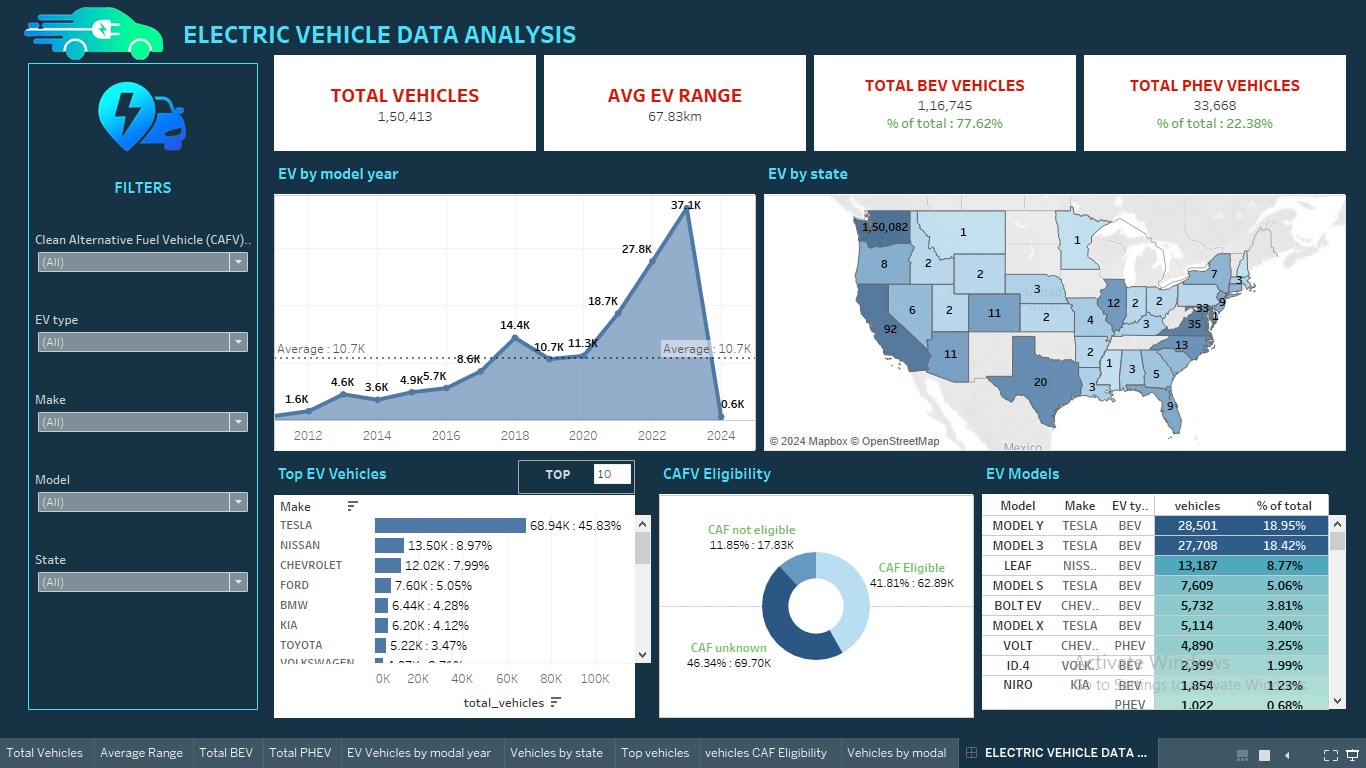

The page's visual inventory and layout, read from the dashboard file:
{"tool":"tableau","page":{"name":" ELECTRIC VEHICLE DATA ANALYSIS ","canvas":[1000,1000],"units":"permille","ordinal":0},"visuals":[{"type":"title","box":[13.8,26.1,972.3,47.4]},{"type":"image","param":"C:/Users/adees/Downloads/ev-thunder-removebg-preview.png","box":[8.7,39.1,187.9,234.9]},{"type":"worksheet","title":"Total Vehicles","mark":"Automatic","box":[199.1,73.4,197.4,138.7]},{"type":"worksheet","title":"Average Range","mark":"Automatic","box":[396.5,73.4,196.5,138.7]},{"type":"worksheet","title":"Total BEV","mark":"Automatic","box":[593.1,73.4,196.5,138.7]},{"type":"worksheet","title":"Total PHEV","mark":"Automatic","box":[789.6,73.4,196.5,138.7]},{"type":"blank","box":[26.8,97.9,159.3,107.7]},{"type":"text","box":[26.8,205.6,159.3,107.7]},{"type":"worksheet","title":"EV Vehicles by modal year","mark":"Area","rows":["Calculation_645703618846998528","Calculation_645703618846998528"],"cols":["Model Year"],"box":[198.7,212.5,350.4,402.6]},{"type":"worksheet","title":"Vehicles by state","mark":"Multipolygon","box":[549.1,212.5,437,402.6]},{"type":"filter","title":"EV Vehicles by modal year","param":"[federated.1fsmxk10ci0dnc1alt7qk1tk1pxi].[none:Clean Alternative Fuel Vehicle (C","box":[26.8,313.2,159.3,106]},{"type":"filter","title":"EV Vehicles by modal year","param":"[federated.1fsmxk10ci0dnc1alt7qk1tk1pxi].[none:Electric Vehicle Type:nk]","box":[26.8,419.2,159.3,106]},{"type":"filter","title":"EV Vehicles by modal year","param":"[federated.1fsmxk10ci0dnc1alt7qk1tk1pxi].[none:Make:nk]","box":[26.8,525.3,159.3,106]},{"type":"worksheet","title":"Top vehicles","mark":"Automatic","rows":["Make"],"cols":["Calculation_645703618846998528"],"box":[198.7,615.1,333.3,358.8]},{"type":"worksheet","title":"vehicles CAF Eligibility","mark":"Pie","rows":["Calculation_645703618903867403","Calculation_620370871281135617"],"box":[532.1,615.1,279.7,358.8]},{"type":"worksheet","title":"Vehicles by modal","mark":"Square","rows":["Model","Make","Electric Vehicle Type"],"box":[811.7,615.1,174.4,358.8]},{"type":"parameter","param":"[Parameters].[Parameter 1]","box":[379.2,623.2,85.7,45.7]},{"type":"filter","title":"EV Vehicles by modal year","param":"[federated.1fsmxk10ci0dnc1alt7qk1tk1pxi].[none:Model:nk]","box":[26.8,631.3,159.3,106]},{"type":"filter","title":"EV Vehicles by modal year","param":"[federated.1fsmxk10ci0dnc1alt7qk1tk1pxi].[none:State:nk]","box":[26.8,737.4,159.3,106]},{"type":"blank","box":[26.8,843.4,159.3,106]}]}

Visuals, with their boxes on the dashboard's canvas, which has no fixed pixel size, in thousandths of its width and height (x1, y1, x2, y2). These are canvas units, not pixel positions in the 1366x768 screenshot, which may show the page scaled, cropped or inside an application window:
title: 14:26:986:74
image: 9:39:197:274
"Total Vehicles" worksheet: 199:73:396:212
"Average Range" worksheet: 396:73:593:212
"Total BEV" worksheet: 593:73:790:212
"Total PHEV" worksheet: 790:73:986:212
blank: 27:98:186:206
text: 27:206:186:313
"EV Vehicles by modal year" worksheet (Area marks): 199:212:549:615
"Vehicles by state" worksheet (Multipolygon marks): 549:212:986:615
"EV Vehicles by modal year" filter: 27:313:186:419
"EV Vehicles by modal year" filter: 27:419:186:525
"EV Vehicles by modal year" filter: 27:525:186:631
"Top vehicles" worksheet: 199:615:532:974
"vehicles CAF Eligibility" worksheet (Pie marks): 532:615:812:974
"Vehicles by modal" worksheet (Square marks): 812:615:986:974
parameter: 379:623:465:669
"EV Vehicles by modal year" filter: 27:631:186:737
"EV Vehicles by modal year" filter: 27:737:186:843
blank: 27:843:186:949
